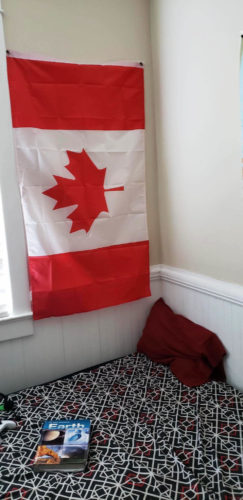Canada flag: (6, 53, 162, 321)
